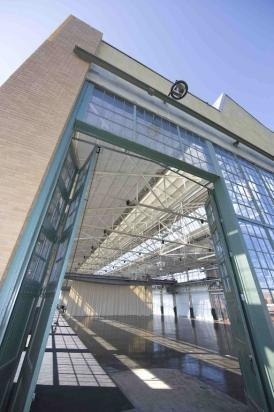affected: (0, 10, 274, 412)
